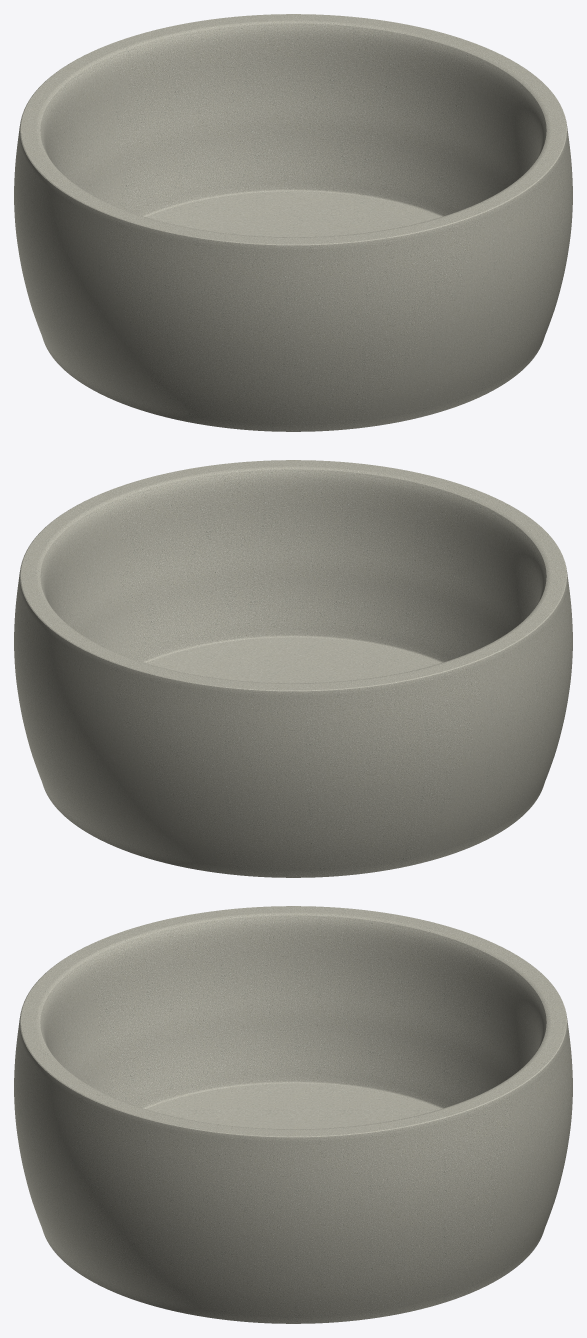
Rendered from BT10_Light_0708.glb.
The picture shows the model from 3 angles, top to bottom: view 1: azimuth 30°, elevation 25°; view 2: azimuth 150°, elevation 25°; view 3: azimuth 270°, elevation 25°; orthographic projection.
Parts seen in each view (by area): view 1: BT10; view 2: BT10; view 3: BT10.
Boxes of the visible parts, left/top/right/bottom form: BT10: left=14, top=14, right=572, bottom=431; BT10: left=14, top=460, right=572, bottom=877; BT10: left=14, top=906, right=572, bottom=1323.
Bounding box in the file's own units: 1.52 × 0.5892 × 1.52.
2 materials, 1 textured.
